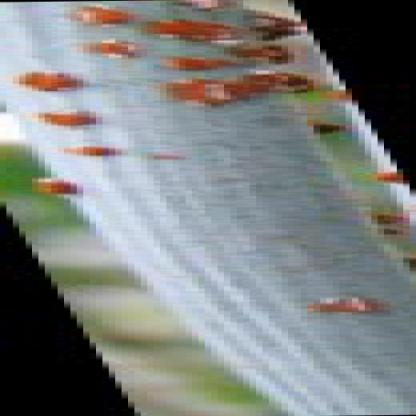wheat Stem Rust: (20, 5, 328, 99), (300, 292, 392, 316), (293, 114, 382, 133), (24, 110, 116, 127), (34, 176, 101, 197), (56, 142, 134, 158), (357, 167, 405, 182)
